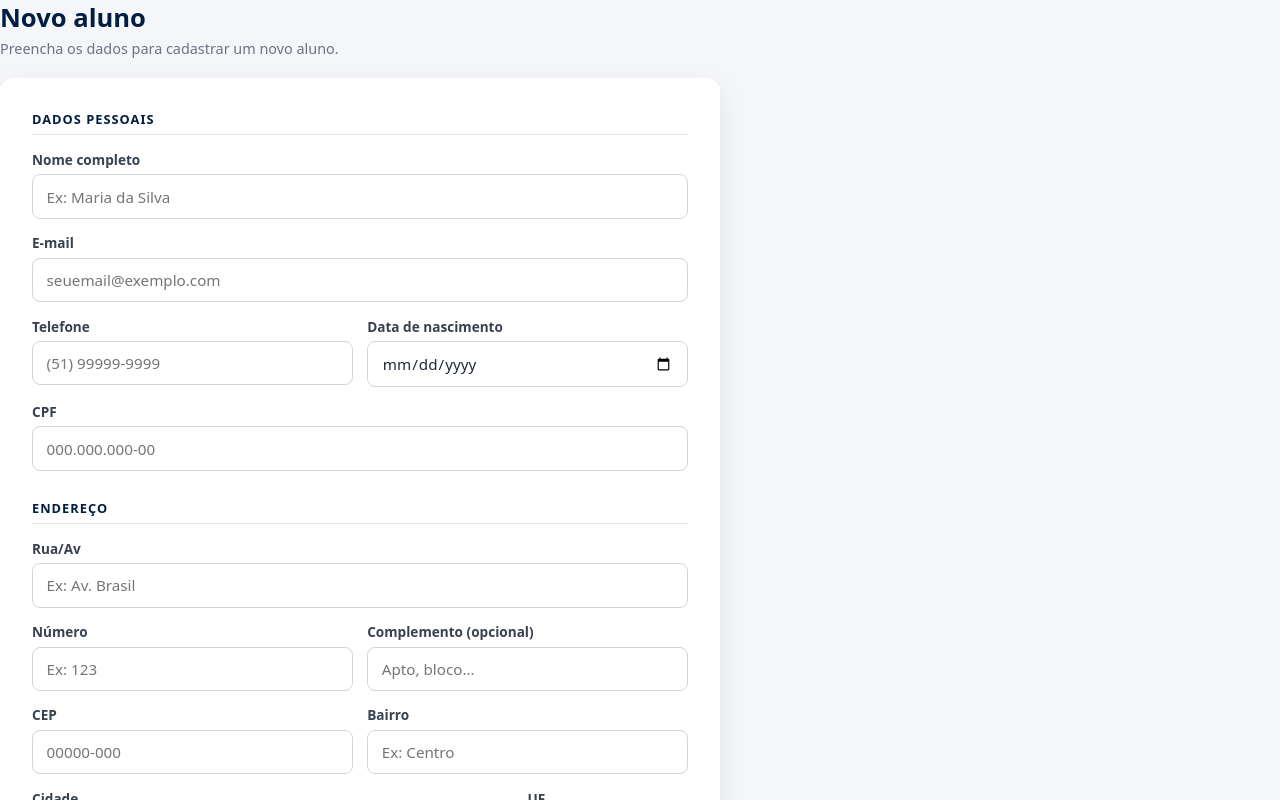
Test case: Formulário de aluno › novo aluno: envia os dados com a senha e volta pra lista
Expected: the heading "Novo aluno" is shown, top-left (0, 0), bottom-right (146, 35)
Step 1. Type "Maria Silva" into the field labelled "Nome completo" → (360,197), box top-left (32, 174), bottom-right (688, 219)
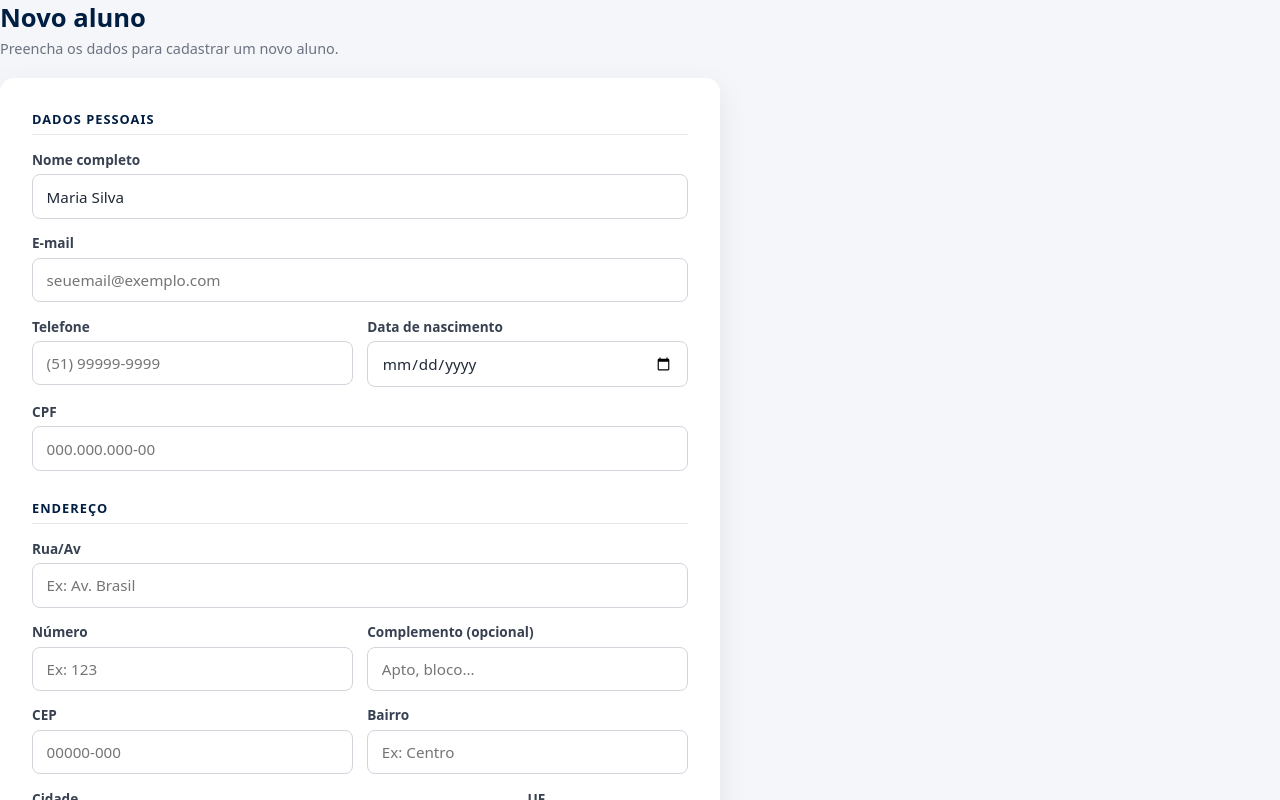
Step 2. Type "12345678900" into the field labelled "CPF" → (360,449), box top-left (32, 426), bottom-right (688, 471)
(page scrolled)
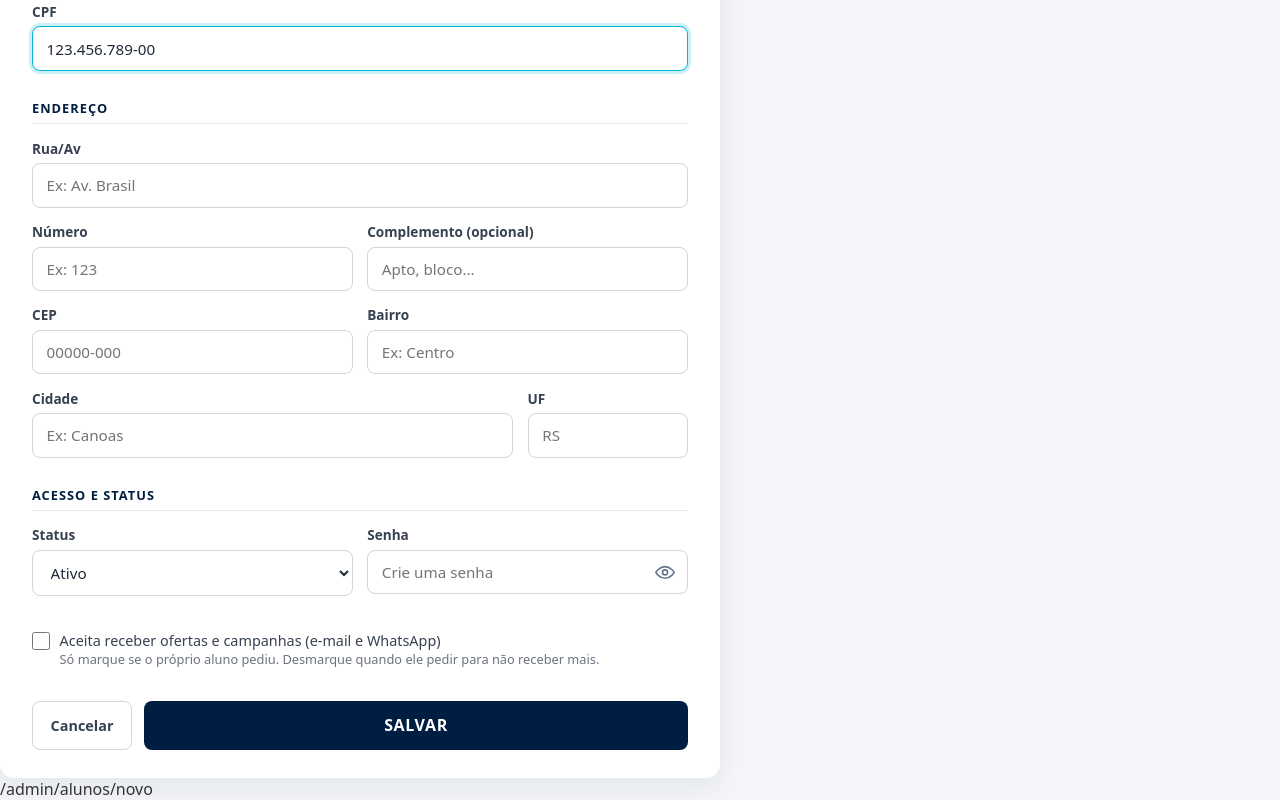
Step 3. Type "senha123" into the password field labelled "Senha" → (528,572), box top-left (367, 550), bottom-right (688, 594)
(page scrolled)
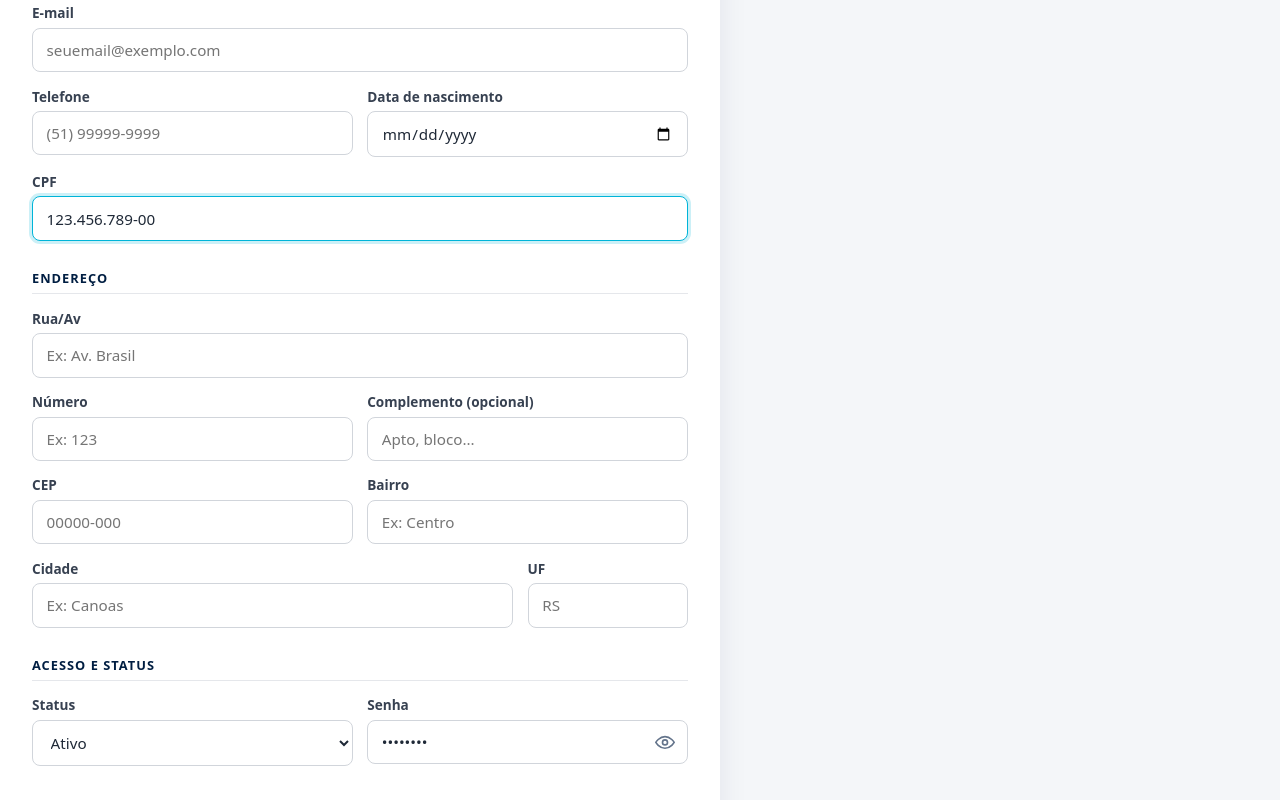
Step 4. Submit the form
(page scrolled)
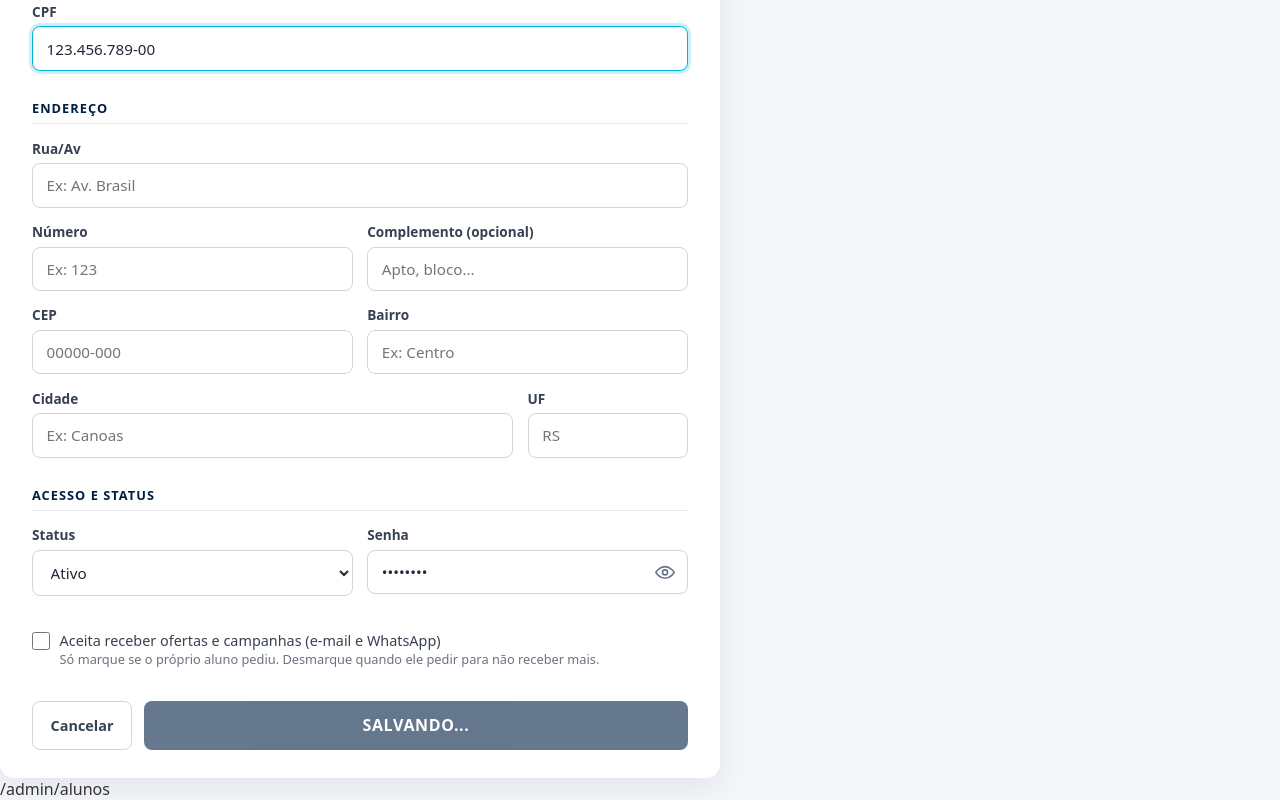
Expected: the text with test id "endereco" reads "/admin/alunos", top-left (0, 778), bottom-right (110, 799)
